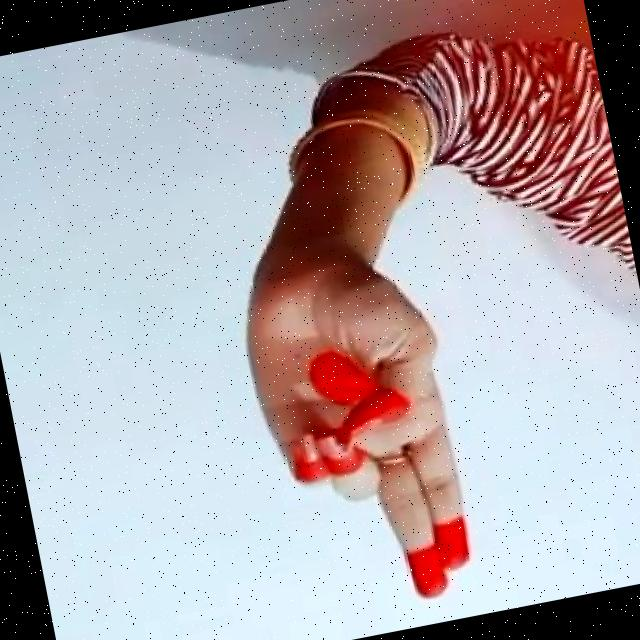Ardhapataka: (200, 241, 548, 640)
bangle: (260, 89, 455, 240)
